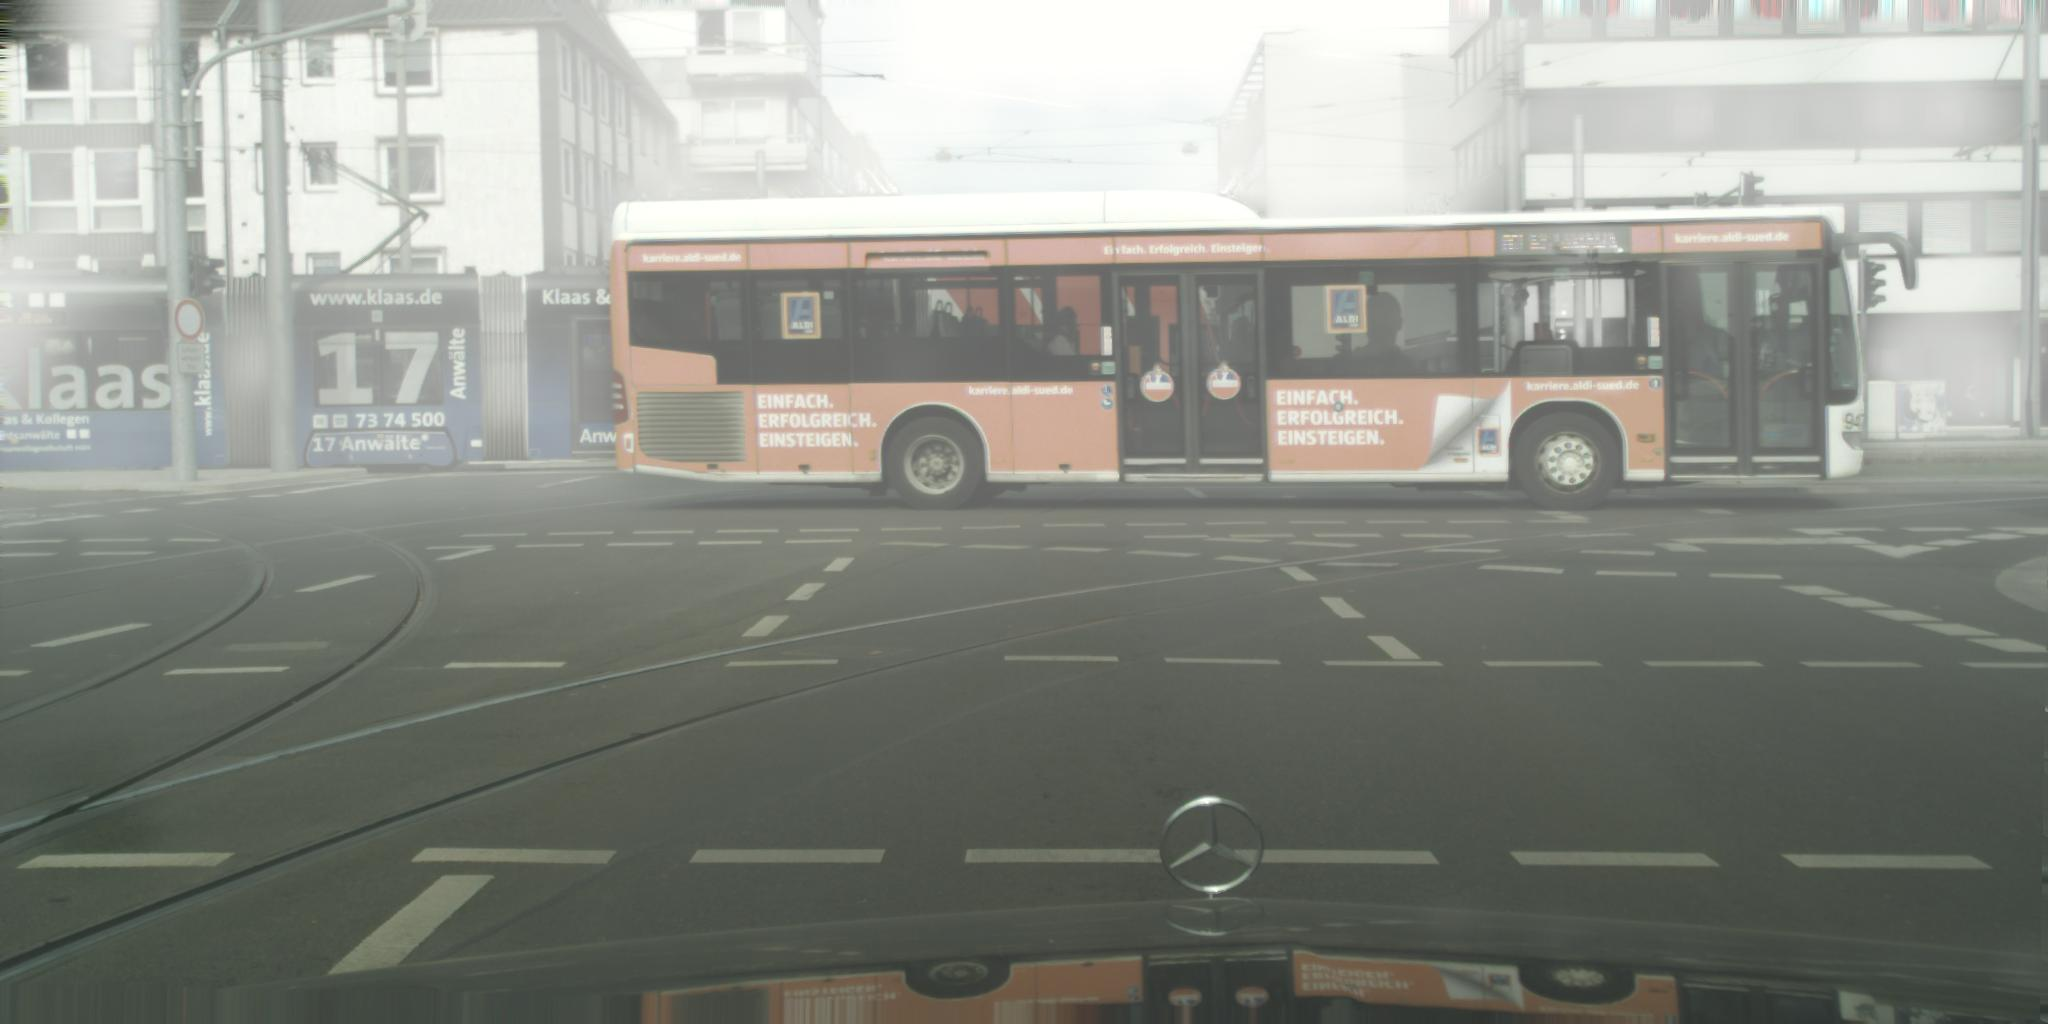bus: (613, 191, 1920, 513)
train: (1, 148, 670, 481)
